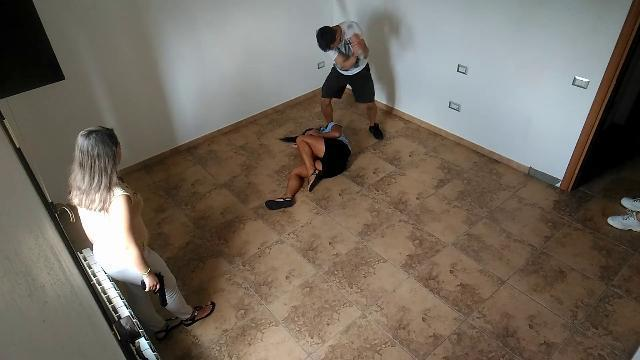non-violence: (70, 122, 214, 342)
violence: (255, 3, 392, 215)
weapon: (141, 276, 169, 308)
